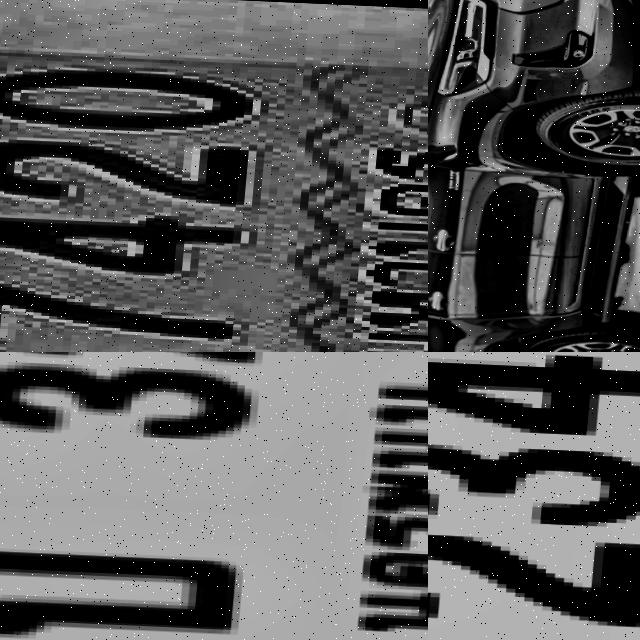license-plate: (0, 0, 428, 352), (0, 352, 428, 640), (428, 352, 640, 640)
